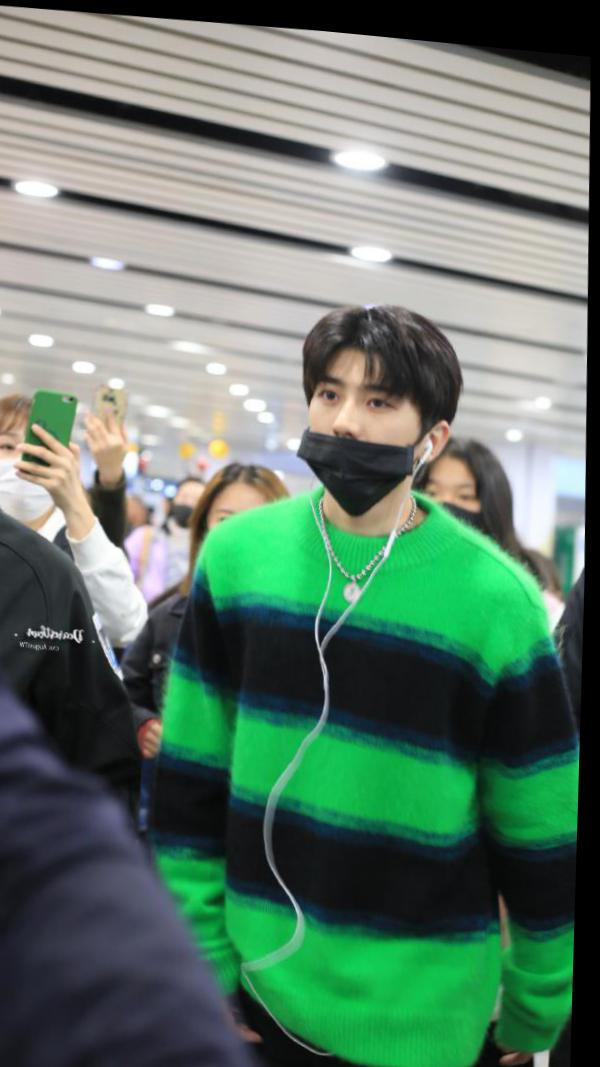OK: (425, 457, 498, 546), (1, 419, 62, 521)
WRONG: (308, 351, 428, 507)
